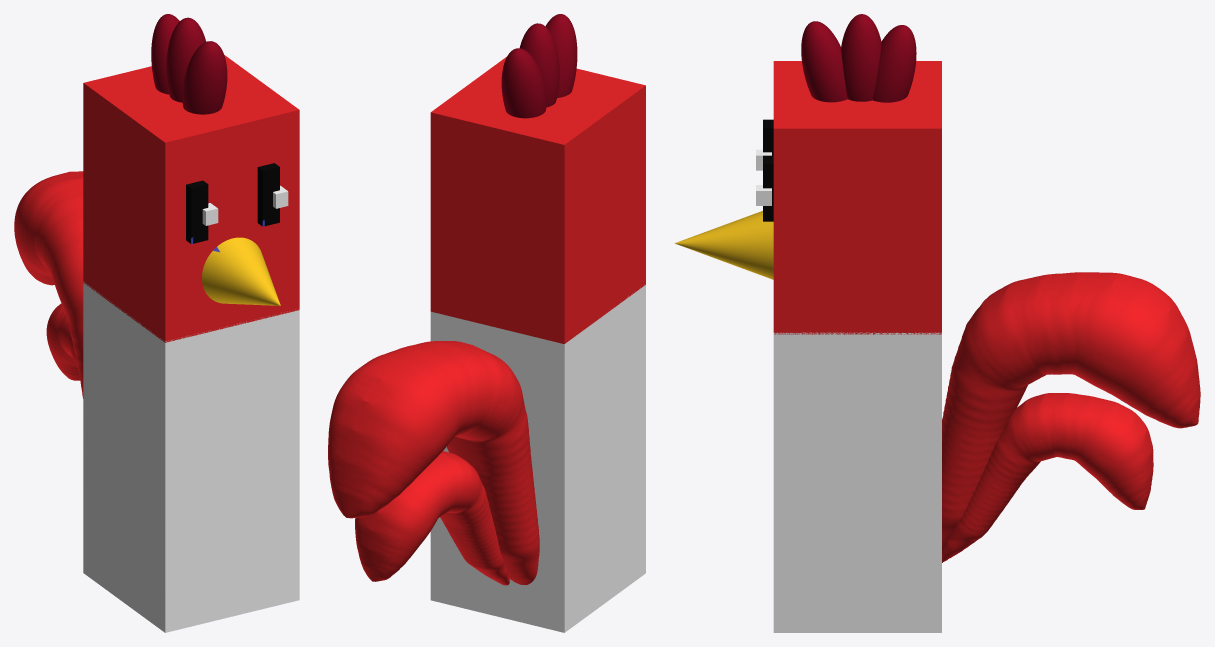
File: White_Rooster.fbx
3 renders of one model, left to right at view 1: azimuth 30°, elevation 25°; view 2: azimuth 150°, elevation 25°; view 3: azimuth 270°, elevation 25°, orthographic. The views are drawn at different scales.
Parts seen in each view (by area): view 1: root (×8), node_id199, node_id202; view 2: root (×7); view 3: root (×8).
Part boxes in pixels (x1=…): root (×8): x1=14, y1=14, x2=299, y2=632; node_id199: x1=186, y1=180, x2=208, y2=243; node_id202: x1=257, y1=163, x2=279, y2=226; root (×7): x1=328, y1=14, x2=645, y2=632; root (×8): x1=675, y1=14, x2=1200, y2=632.
Bounding box in the file's own units: 0.074 × 0.2979 × 0.2427.
Materials: 9 (9 with a texture image).
